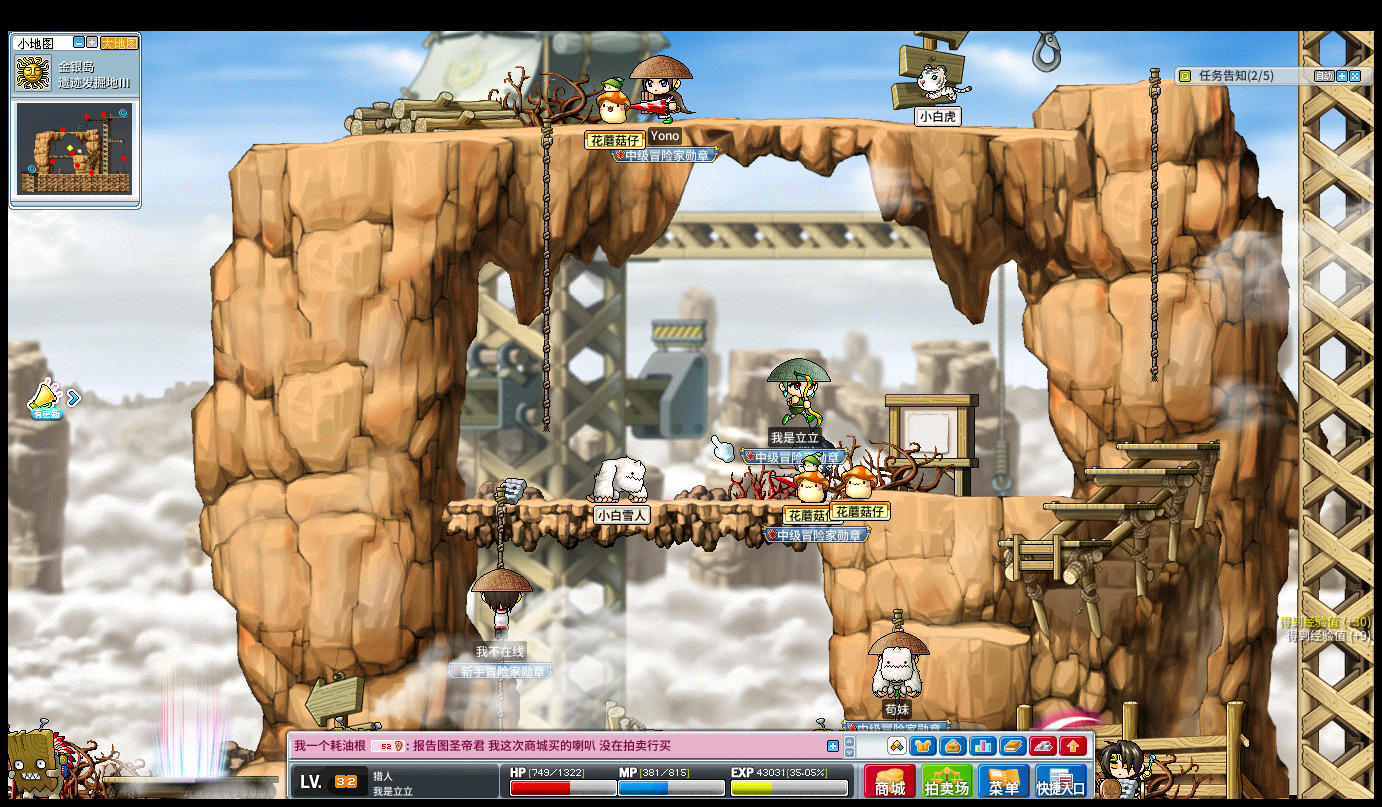floor: (229, 112, 1086, 146), (447, 497, 825, 509), (924, 622, 1029, 644), (1051, 75, 1174, 91), (918, 492, 1078, 502), (995, 537, 1109, 550), (997, 533, 1108, 546), (1042, 498, 1153, 510), (1079, 464, 1197, 474), (1047, 501, 1158, 511), (1114, 440, 1220, 450)
monster: (3, 721, 73, 796)
rope: (1146, 63, 1160, 389), (539, 118, 551, 429), (491, 490, 506, 568)
